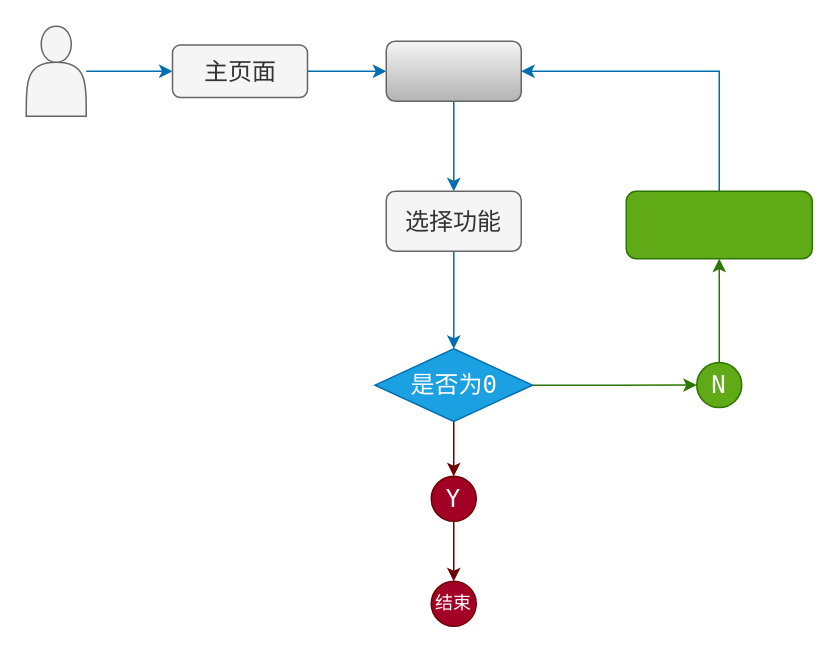
Image size: 839x653. Some labels were removed from this diagram. Each missing label, with the centre of its shape:
"功能菜单" goes at (x=453, y=70).
"执行响应的功能" goes at (x=718, y=224).
"用户" goes at (x=55, y=70).
